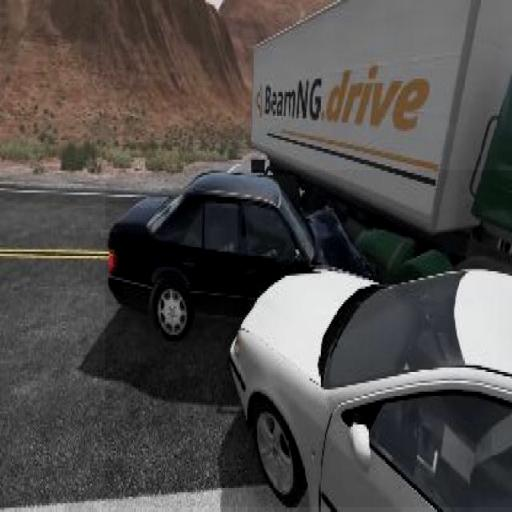小汽车撞小汽车: (105, 170, 512, 507)
